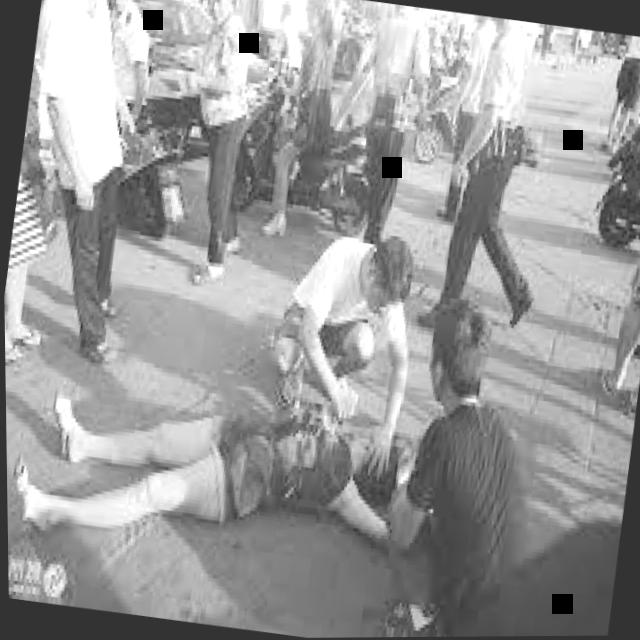Fall-Detected: (12, 346, 438, 572)
